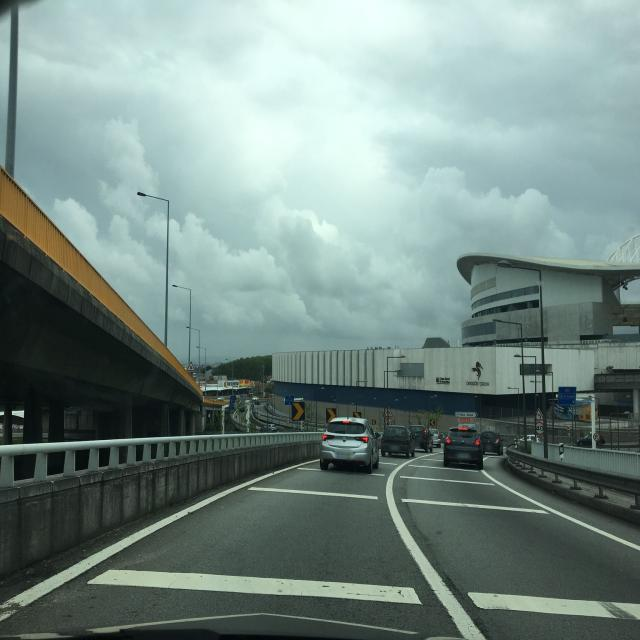car: (320, 416, 380, 472), (443, 424, 484, 469), (381, 424, 416, 458), (409, 424, 433, 453), (479, 430, 503, 455), (429, 428, 443, 447)
